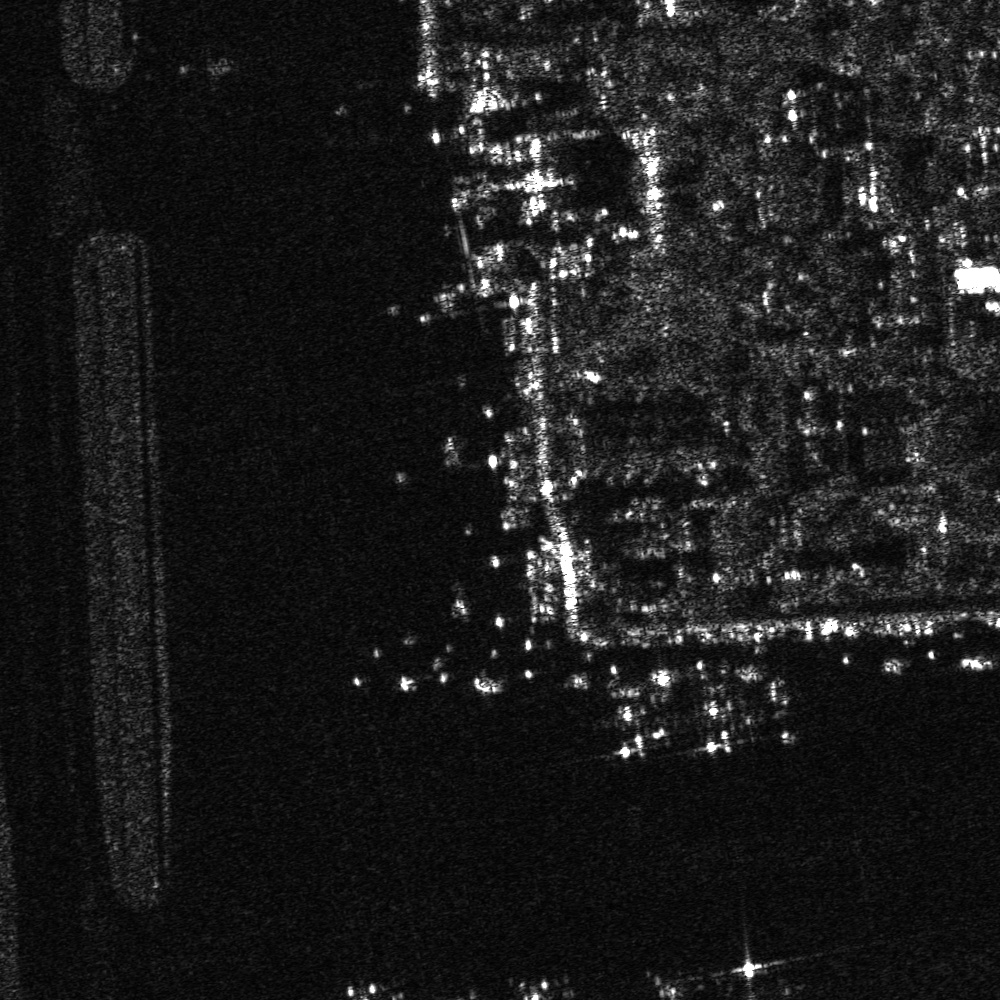ARJ21: (757, 663, 800, 745)
Boeing737: (592, 676, 680, 762)
other: (689, 672, 755, 755), (177, 43, 240, 85), (338, 971, 385, 999), (647, 974, 695, 999), (517, 978, 565, 999)
